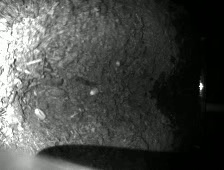corn: (34, 108, 45, 119), (89, 88, 98, 95), (115, 60, 120, 68)
